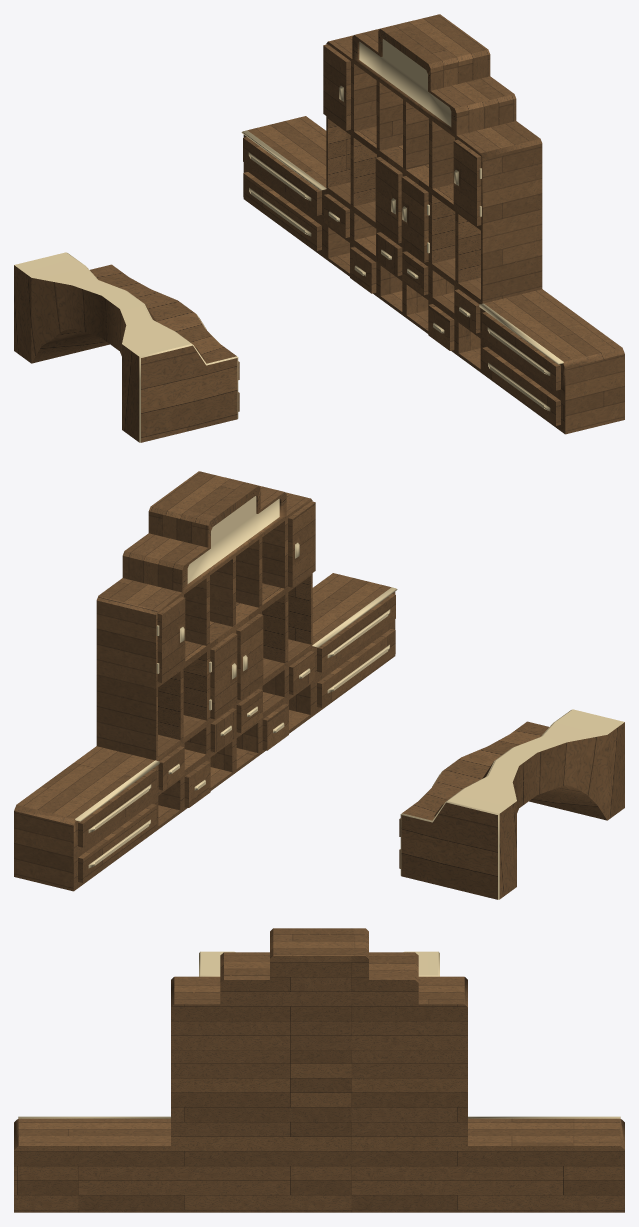
Rendered from ShelfAndTable.fbx.
3 renders of one model, top to bottom at view 1: azimuth 30°, elevation 25°; view 2: azimuth 150°, elevation 25°; view 3: azimuth 270°, elevation 25°, orthographic. The views are drawn at different scales.
Visible parts, largest first — view 1: Shelves, DeskTable; view 2: Shelves, DeskTable; view 3: Shelves, DeskTable.
Boxes of the visible parts, x1=… form: Shelves: x1=241, y1=14, x2=624, y2=434; DeskTable: x1=14, y1=252, x2=239, y2=442; Shelves: x1=14, y1=471, x2=397, y2=891; DeskTable: x1=399, y1=709, x2=624, y2=899; Shelves: x1=14, y1=928, x2=624, y2=1212; DeskTable: x1=199, y1=951, x2=439, y2=976.
Bounding box in the file's own units: 1297 × 865 × 1864.
Materials: 2 (1 with a texture image).
